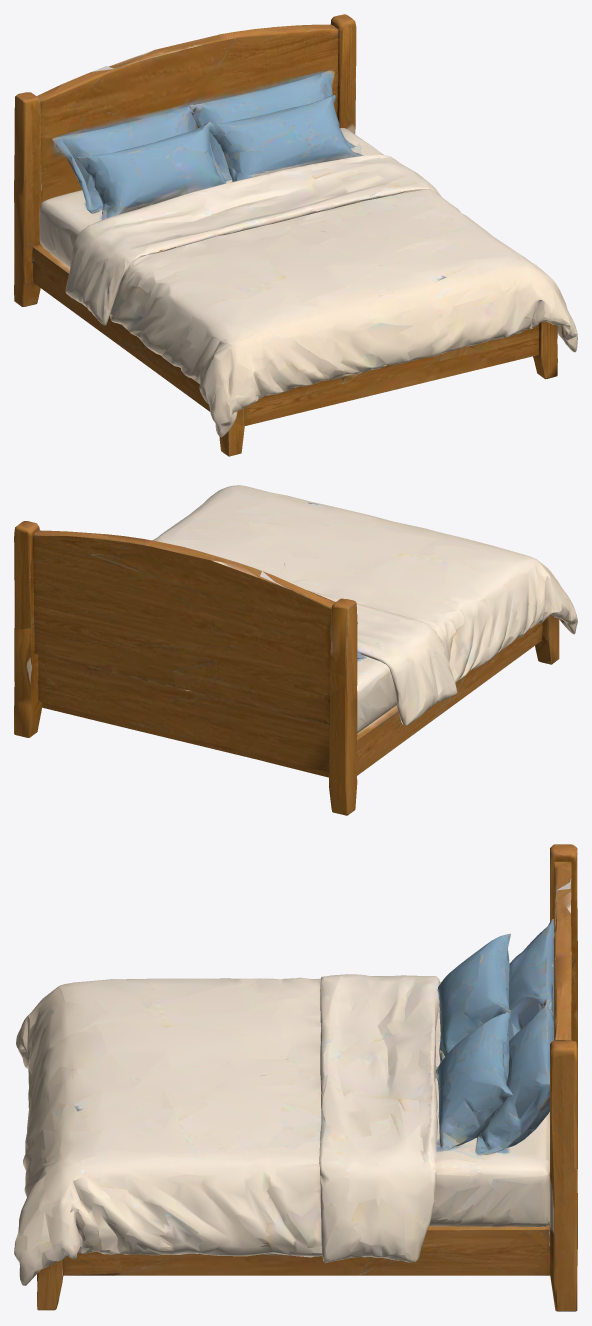
File: upm_mv3pqtpz5aj.glb
3 views of the same model, one above another, from view 1: azimuth 30°, elevation 25°; view 2: azimuth 150°, elevation 25°; view 3: azimuth 270°, elevation 25° (orthographic). The views are drawn at different scales.
Bounding box in the file's own units: 1.8 × 1.04 × 1.9.
Materials: 1 (1 with a texture image).
